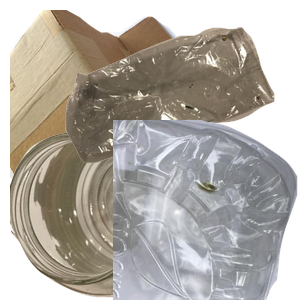cardboard: (10, 10, 206, 190)
glass: (10, 126, 216, 300)
plastic: (113, 120, 300, 300)
trash: (63, 24, 300, 179)
